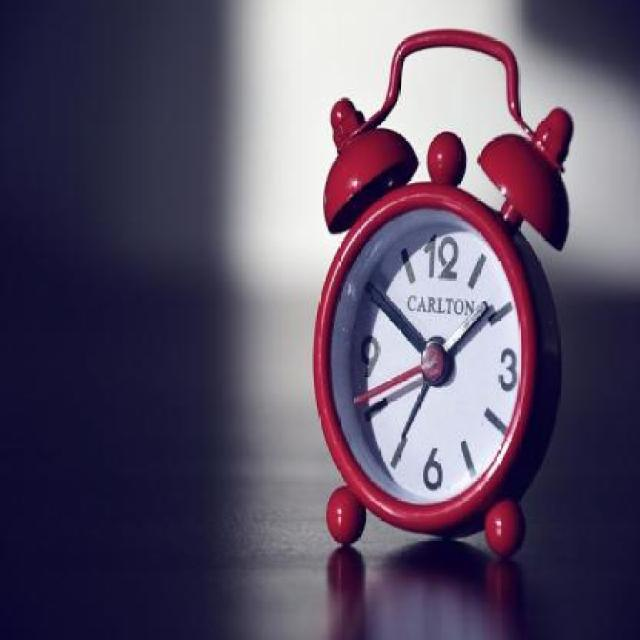clock: (328, 207, 537, 502)
